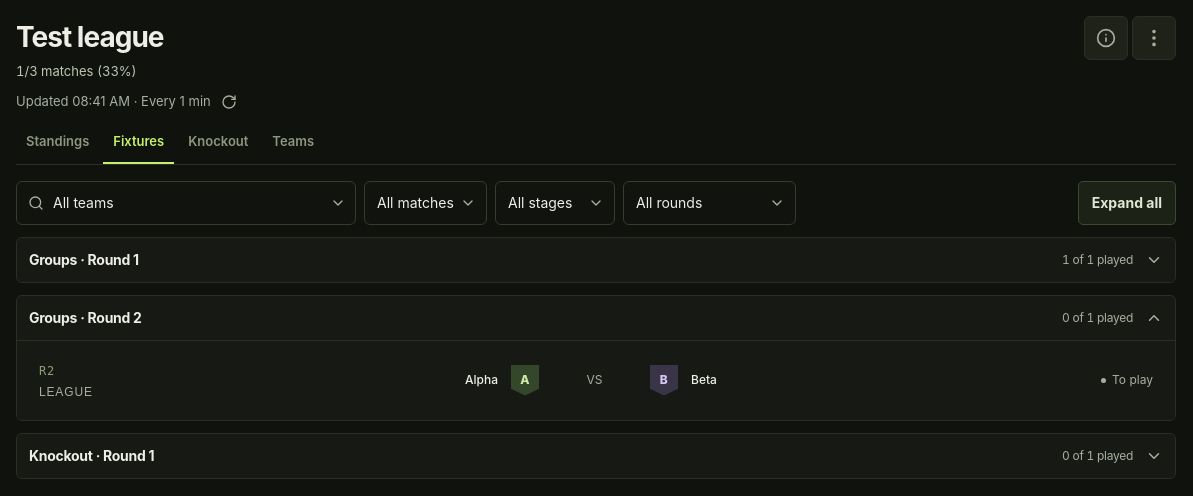
Test: fixtures navigate complete rounds and keep group and knockout rounds distinct
This screenshot has width=1193, height=496.
Step 1. Select "Knockout · Round 1" in the dropdown named "Filter by round" → {"x": 710, "y": 203}, box [623,181,796,225]
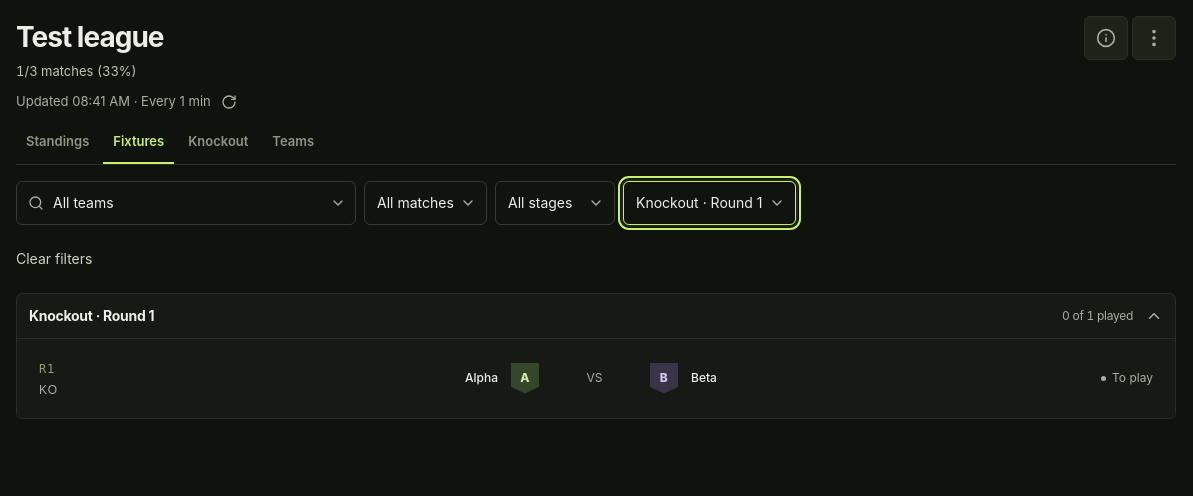
Expected: the button "Groups · Round" is gone
Expected: the button "Knockout · Round 1 0 of 1 played" is expanded, [17,294,1175,338]
Step 2. Select "Played" in the dropdown named "Filter fixture status" → {"x": 426, "y": 203}, box [364,181,487,225]
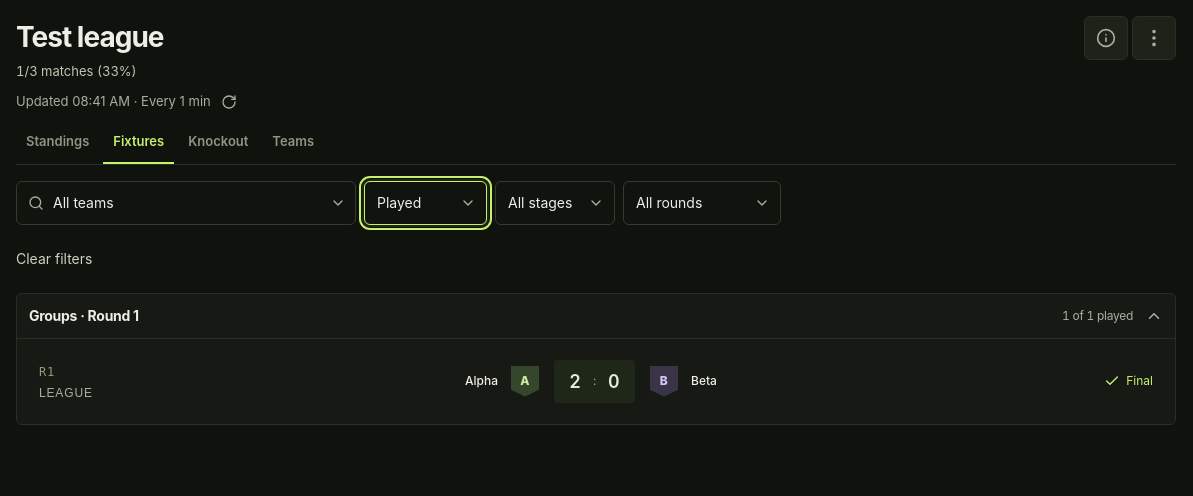
Expected: the button "Groups · Round 1 1 of 1 played" is shown, [17,294,1175,338]
